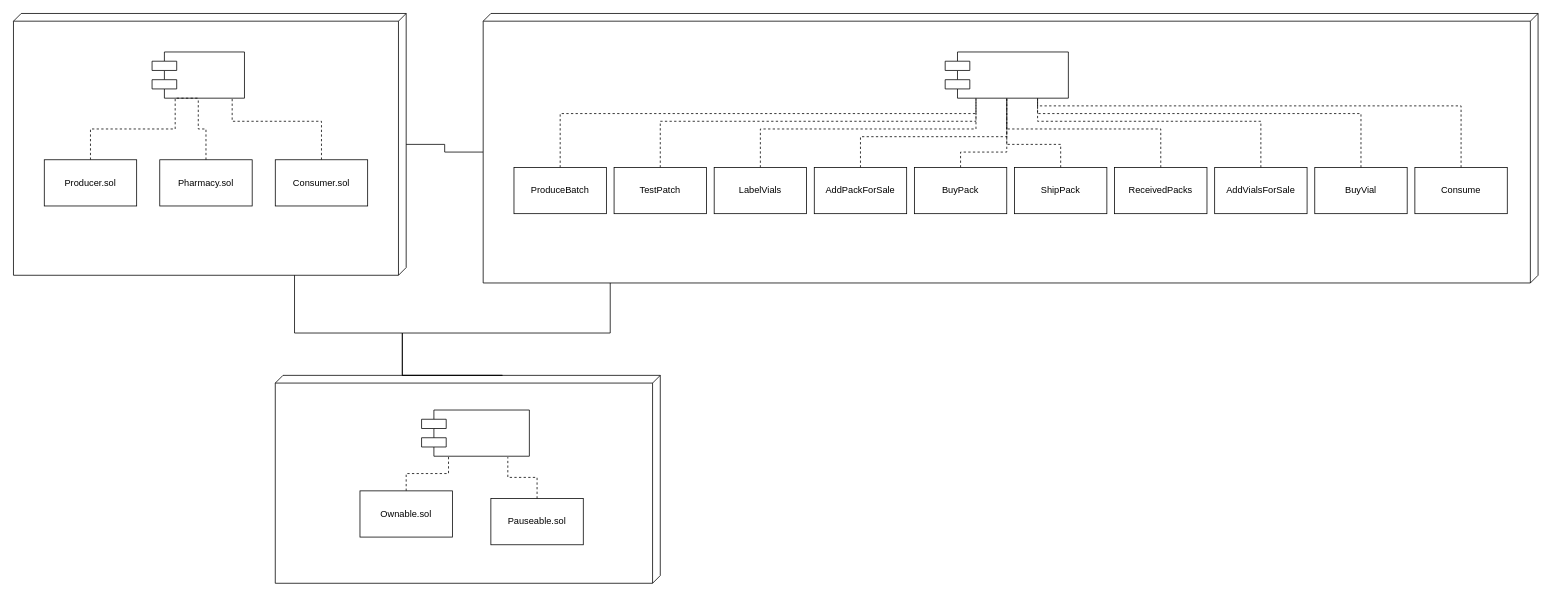
The diagram is 1552 pixels wide and 597 high, and some of its shapes have lost their labels. The box of each missing label's shape, as (x1, y1, x2, y2) in pixels:
InsulinAccessControl: (13, 13, 406, 275)
InsulinBase: (482, 13, 1538, 283)
InsulinCore: (275, 375, 660, 583)
Roles .sol: (151, 51, 244, 98)
SupplayChain.sol: (944, 51, 1068, 98)
ValueChain .sol: (421, 409, 529, 456)
